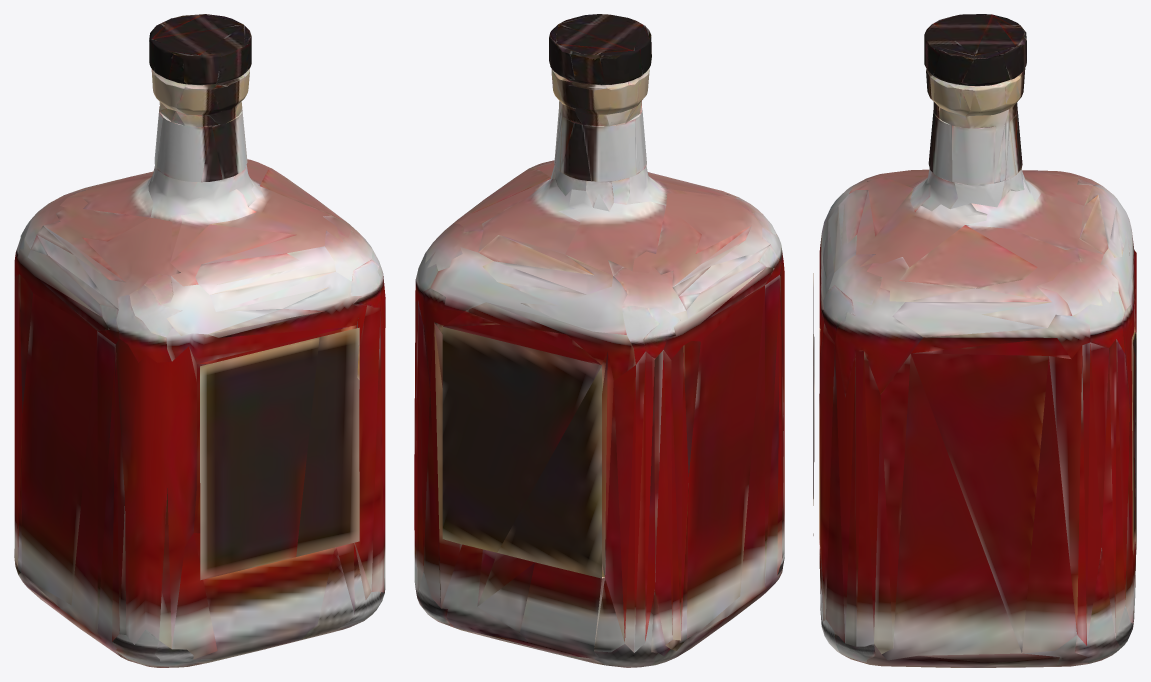
File: rum-square.glb
3 renders of one model, left to right at view 1: azimuth 30°, elevation 25°; view 2: azimuth 150°, elevation 25°; view 3: azimuth 270°, elevation 25°, orthographic. The views are drawn at different scales.
Size of the model in its own units: 0.9456 by 1.9 by 0.9684.
Materials: 1 (1 with a texture image).
